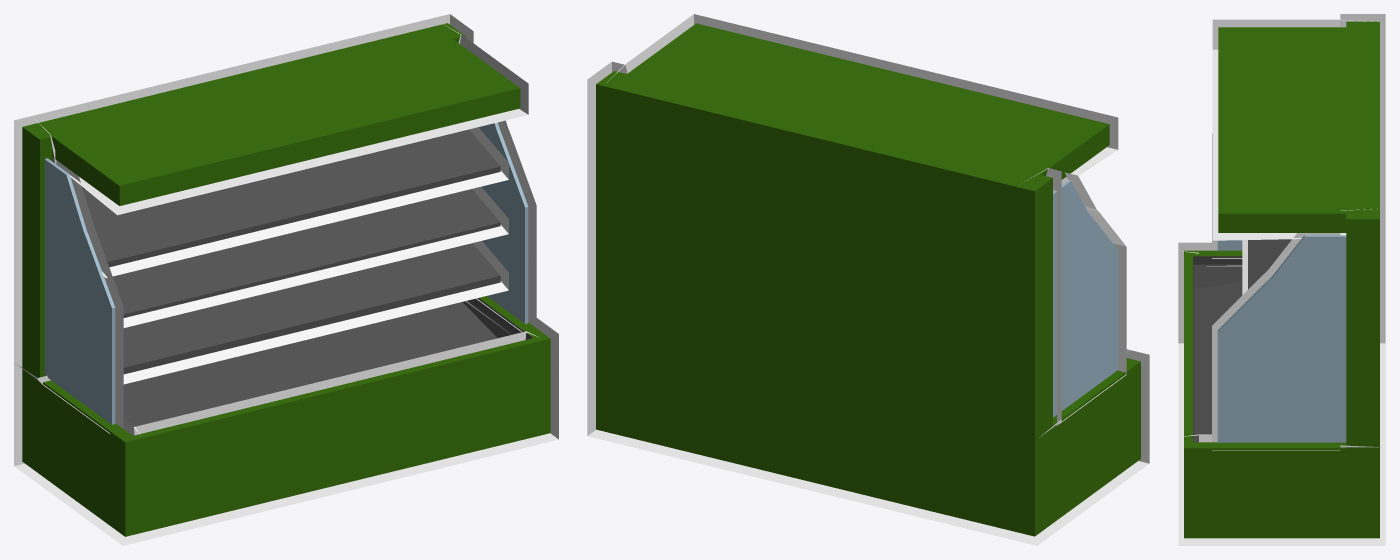
The model's file is vegetable_fridge.gltf.
3 renders of one model, left to right at view 1: azimuth 30°, elevation 25°; view 2: azimuth 150°, elevation 25°; view 3: azimuth 270°, elevation 25°, orthographic. The views are drawn at different scales.
Parts seen in each view (by area): view 1: VegetableFridge; view 2: VegetableFridge; view 3: VegetableFridge.
Boxes of the visible parts, x1,y1,x2,y2 form: VegetableFridge: [14, 14, 558, 545]; VegetableFridge: [587, 14, 1149, 545]; VegetableFridge: [1178, 14, 1385, 545].
Bounding box in the file's own units: 2.47 × 1.87 × 1.07.
2 materials, 1 textured.
